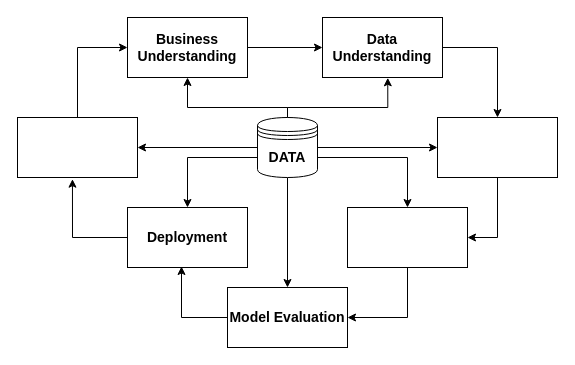
This 575x365 diagram has some shape labels left out. The centre of each missing label's shape, as x and y in pixels:
Data Preparation: point 497,147
Feedback and Refining: point 77,147
Model Development: point 407,237
